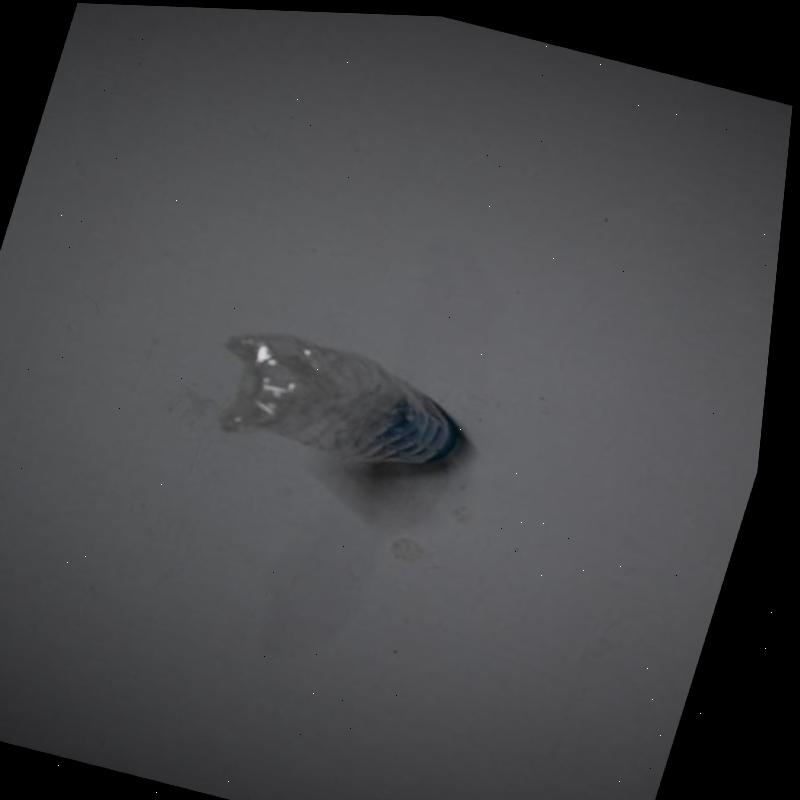botella: (195, 316, 493, 489)
